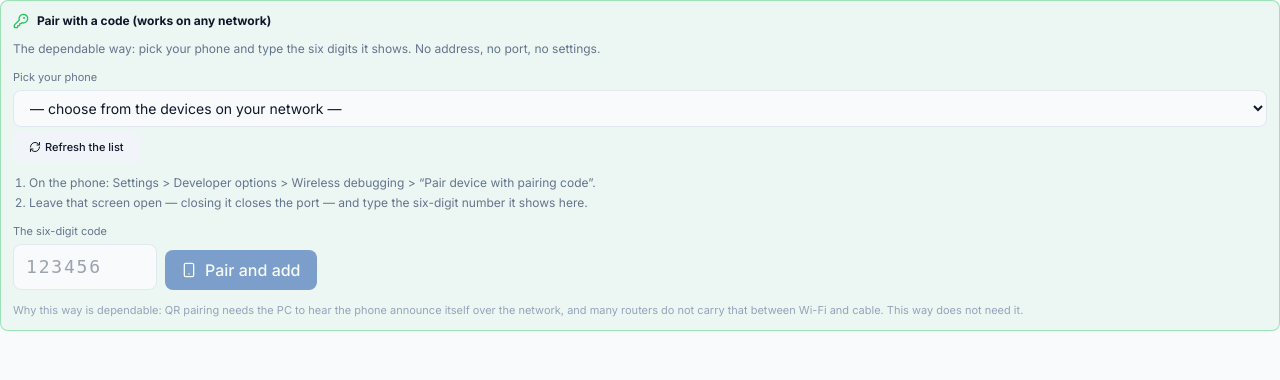
Test: pairing › says how long the wait is, because a silent twenty seconds reads as hung
Step 1. Select "Samsung — 192.168.3.24" in the dropdown labelled "Pick your phone" → (640, 108), box [13,90,1267,126]
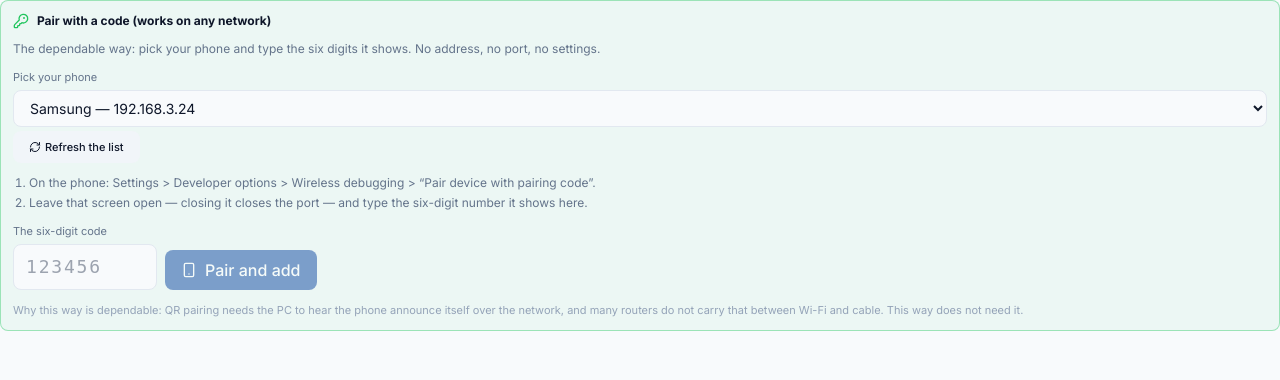
Step 2. Type "566925" into the field labelled "The six-digit code" → (85, 266), box [13,244,157,290]
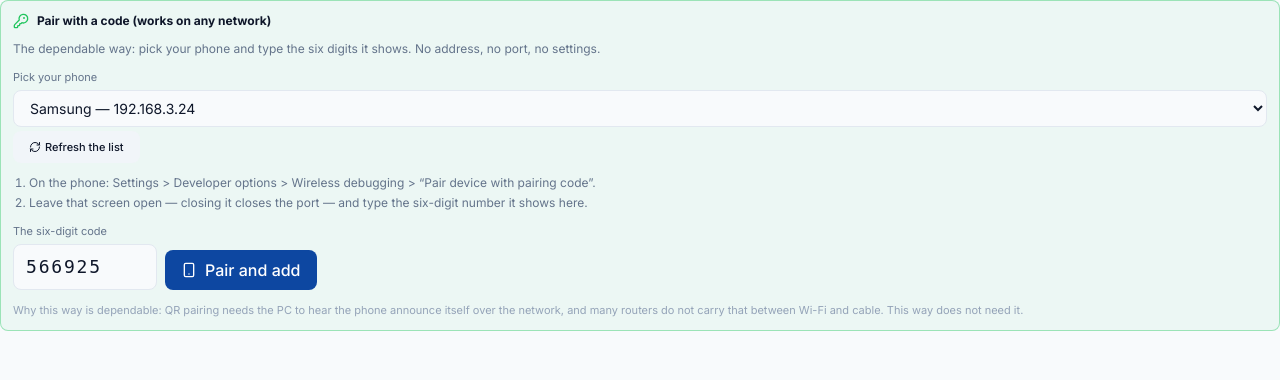
Step 3. Click the button "Pair and add" → (241, 270), box [165,250,316,290]
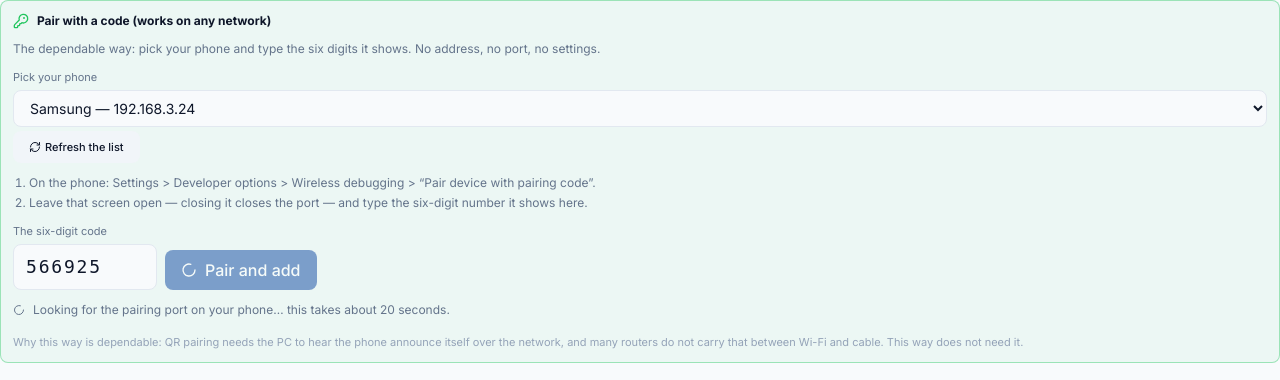
Now the text "about 20 seconds" is shown, box [33,302,450,316]
